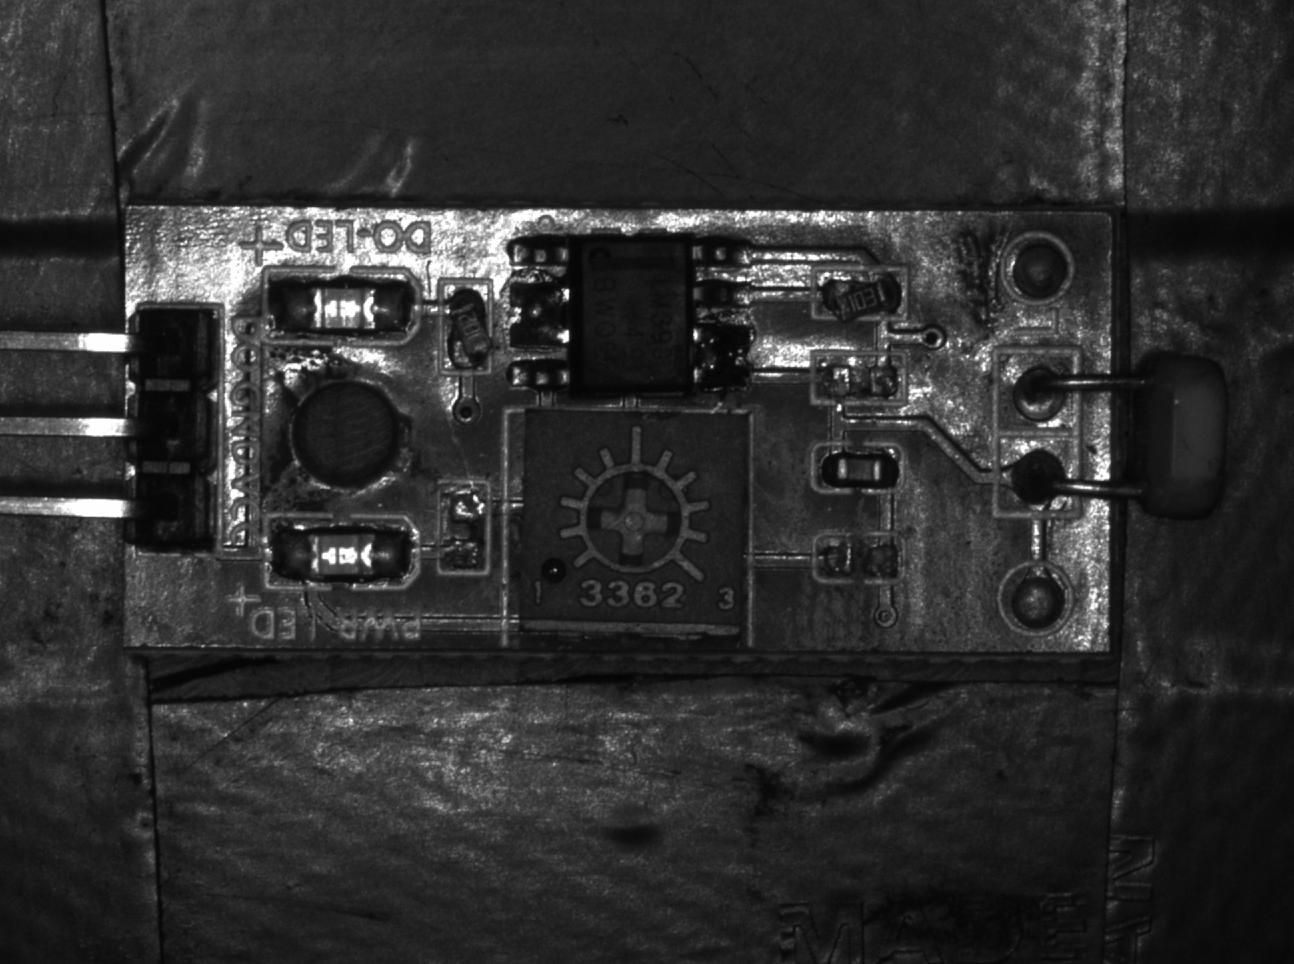bridge: (507, 275, 570, 354), (690, 318, 755, 388)
lifted: (441, 280, 496, 374), (815, 265, 906, 320)
miss: (809, 350, 907, 405), (814, 530, 907, 584), (436, 480, 490, 572)
ok: (812, 441, 903, 493)
